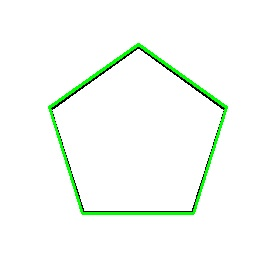line_segment: (48, 44, 227, 215)
